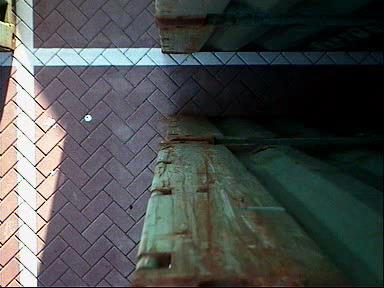groundmarker_2: (107, 226, 170, 266), (105, 72, 167, 112)
